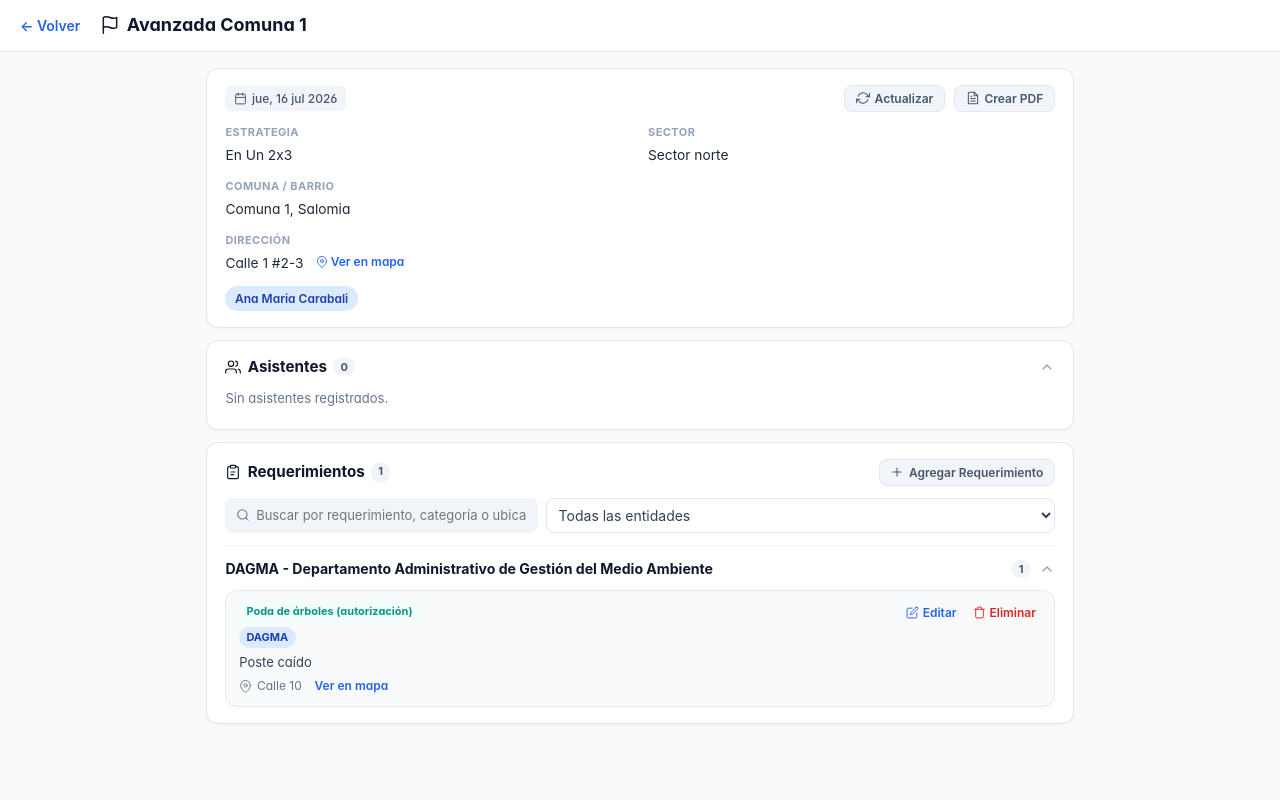
Test: DetalleAvanzada — edit requerimiento (REAL store integration) › a successful edit whose backend response re-homes the req into a NEW entidad group keeps the card visible (new group defaults open)
Expected: the text "Poste caído" is shown, x1=239 y1=654 x2=312 y2=670
Expected: the text "DAGMA - Departamento Administrativo de Gestión del Medio Ambiente" is shown, x1=225 y1=560 x2=713 y2=577
Click the button with aria-label "editar requerimiento" at (931, 612), box x1=901 y1=602 x2=961 y2=622
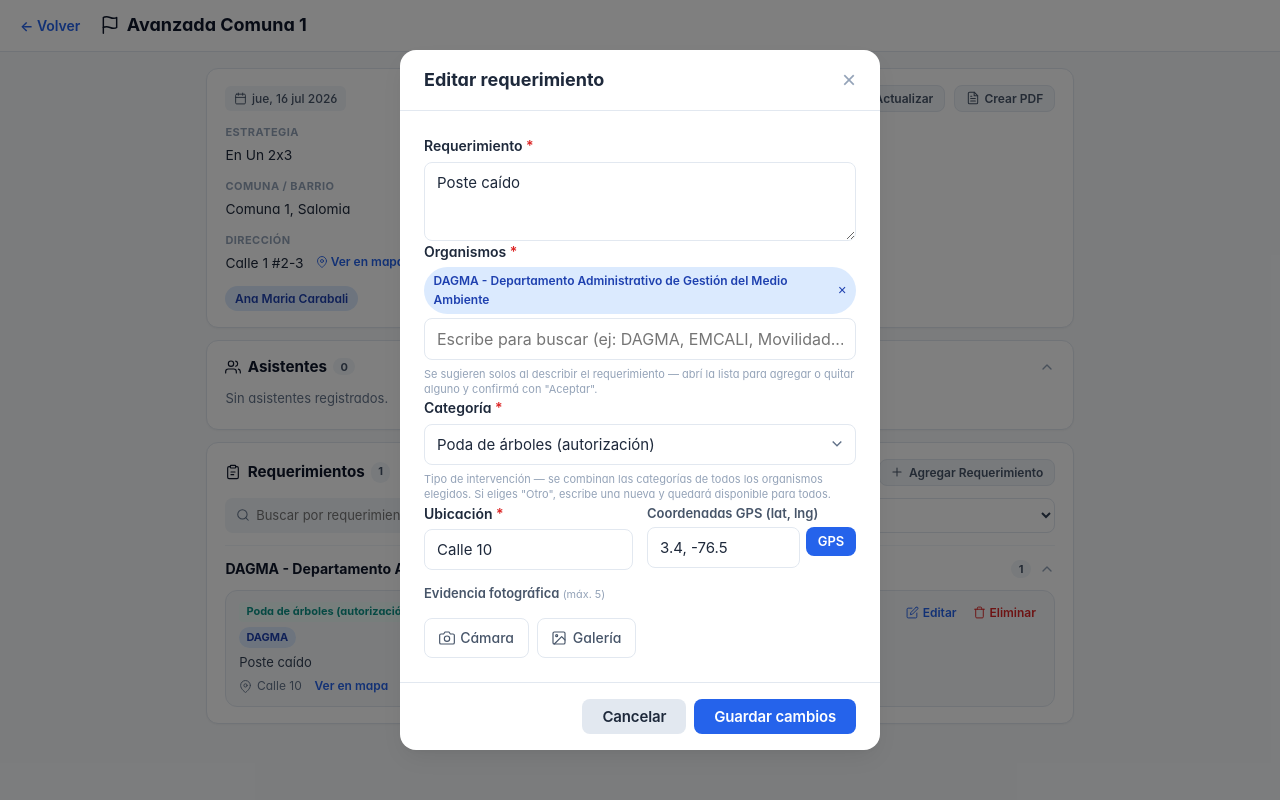
Replace the text in the text box labelled "Requerimiento *" with "Poste reparado" at (640, 201), box x1=424 y1=162 x2=856 y2=241
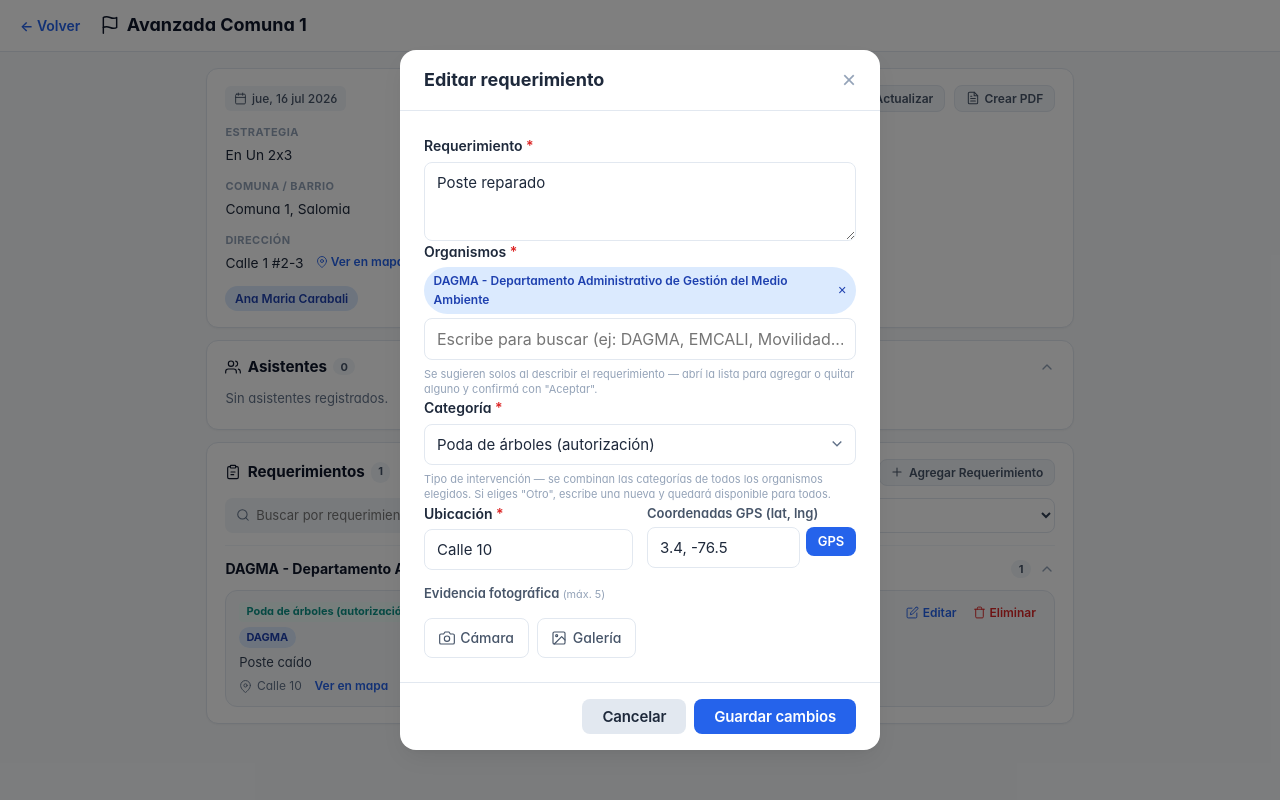
Click the button "Guardar cambios" at (775, 717), box x1=694 y1=699 x2=856 y2=734
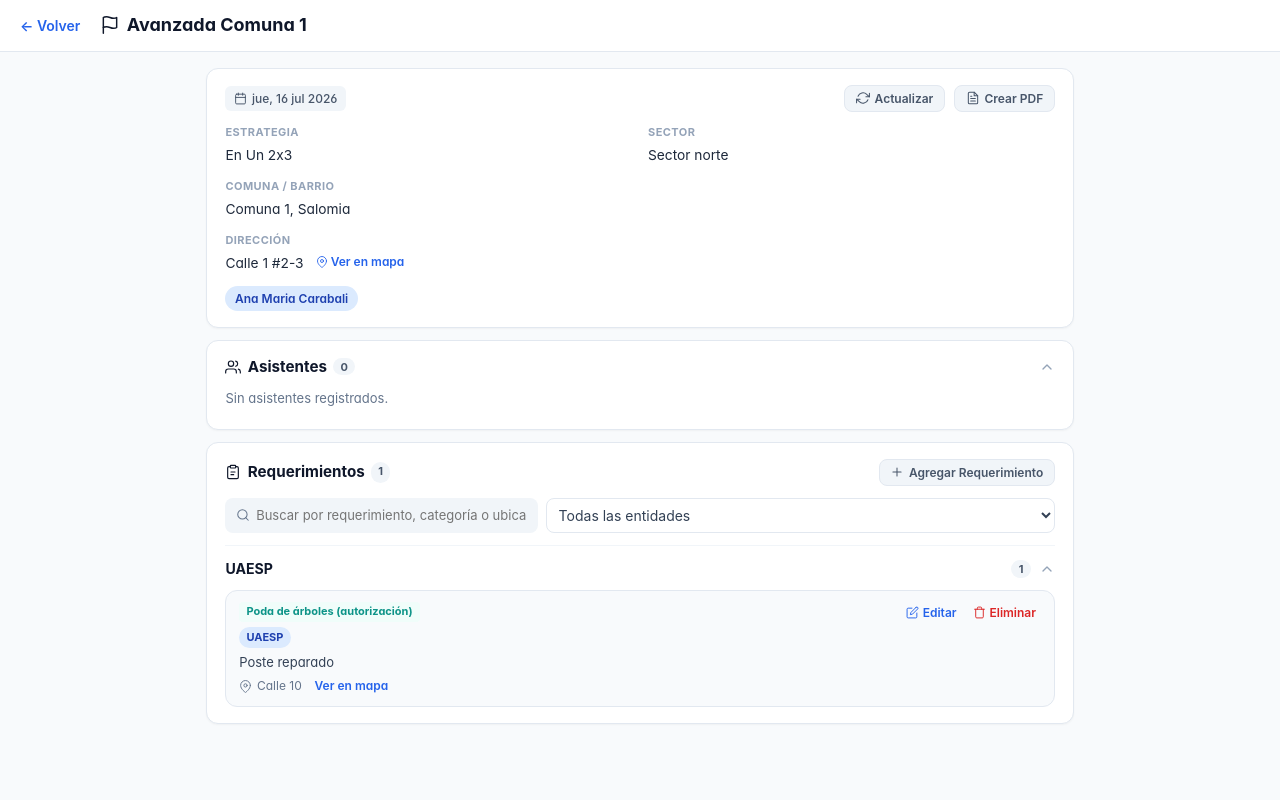
Now the 1st text "UAESP" is shown, box x1=225 y1=560 x2=273 y2=577
Now the button "DAGMA - Departamento Administrativo de Gestión del Medio Ambiente" is gone
Now the text "Poste reparado" is shown, box x1=239 y1=654 x2=334 y2=670
